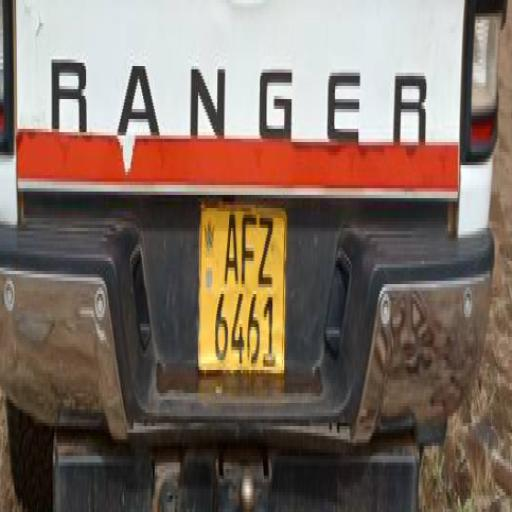number-plates: (200, 207, 282, 377)
